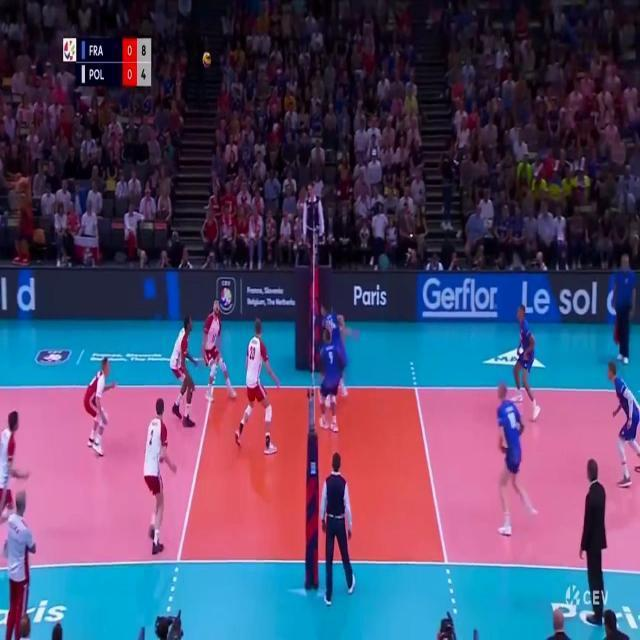volleyball: (202, 52, 212, 68)
